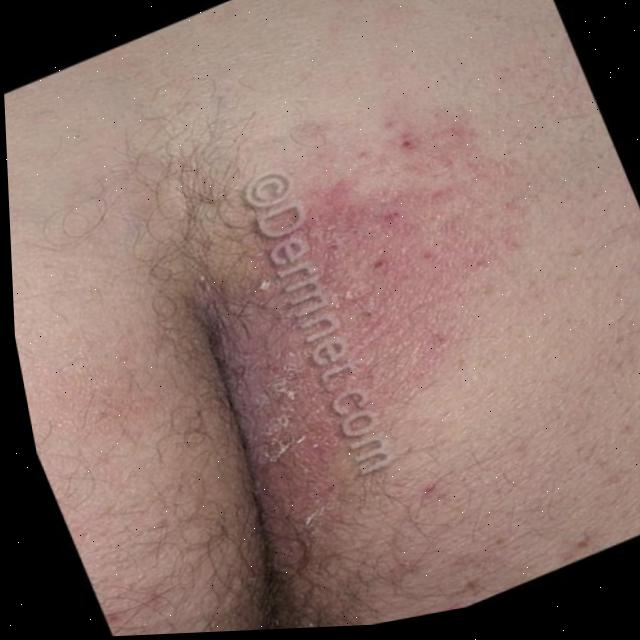Eczema: (285, 101, 508, 365)
